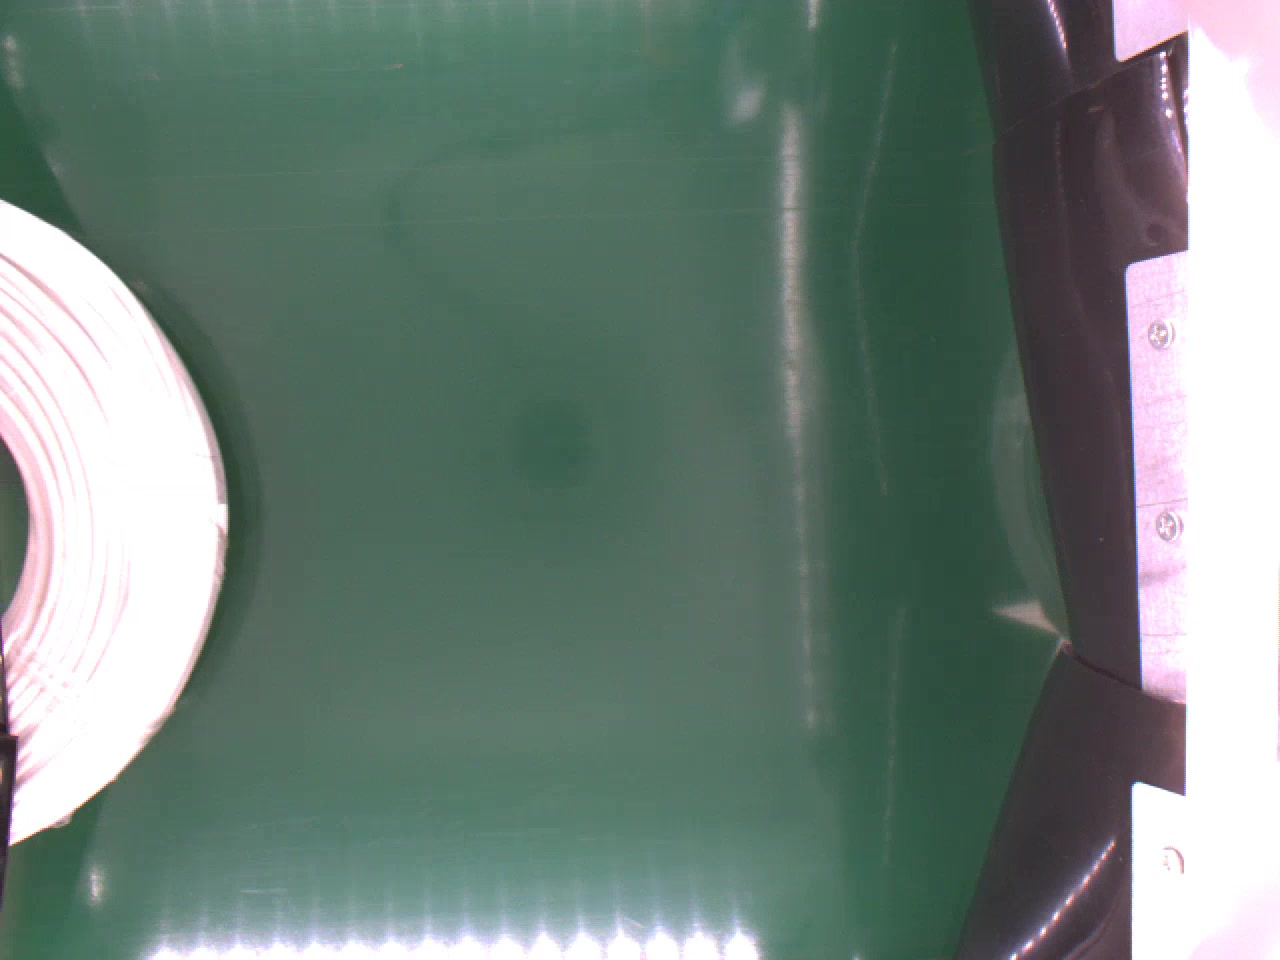white: (0, 189, 229, 839)
